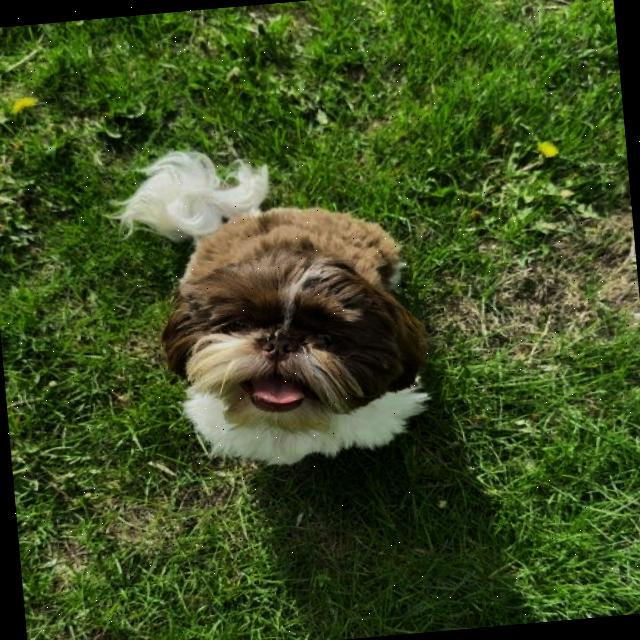shih_tzu_dog: (150, 235, 442, 454)
